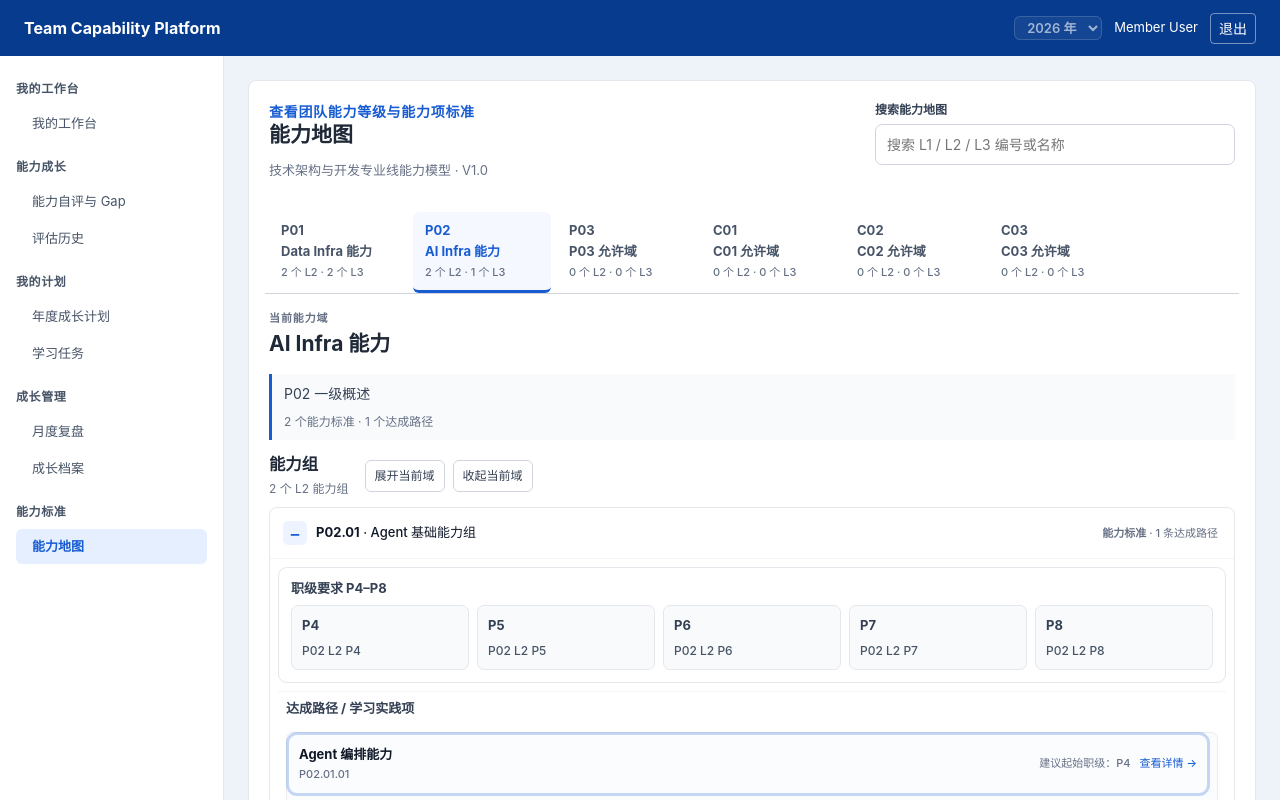
Test case: catalog routes › expands an L2 level description inline and handles an initial L3 hash
The width and height of the screenshot is (1280, 800).
Click the button with test id "l2-level-summary-P02.01-P4". click: (380, 638)
box: [291, 605, 469, 670]
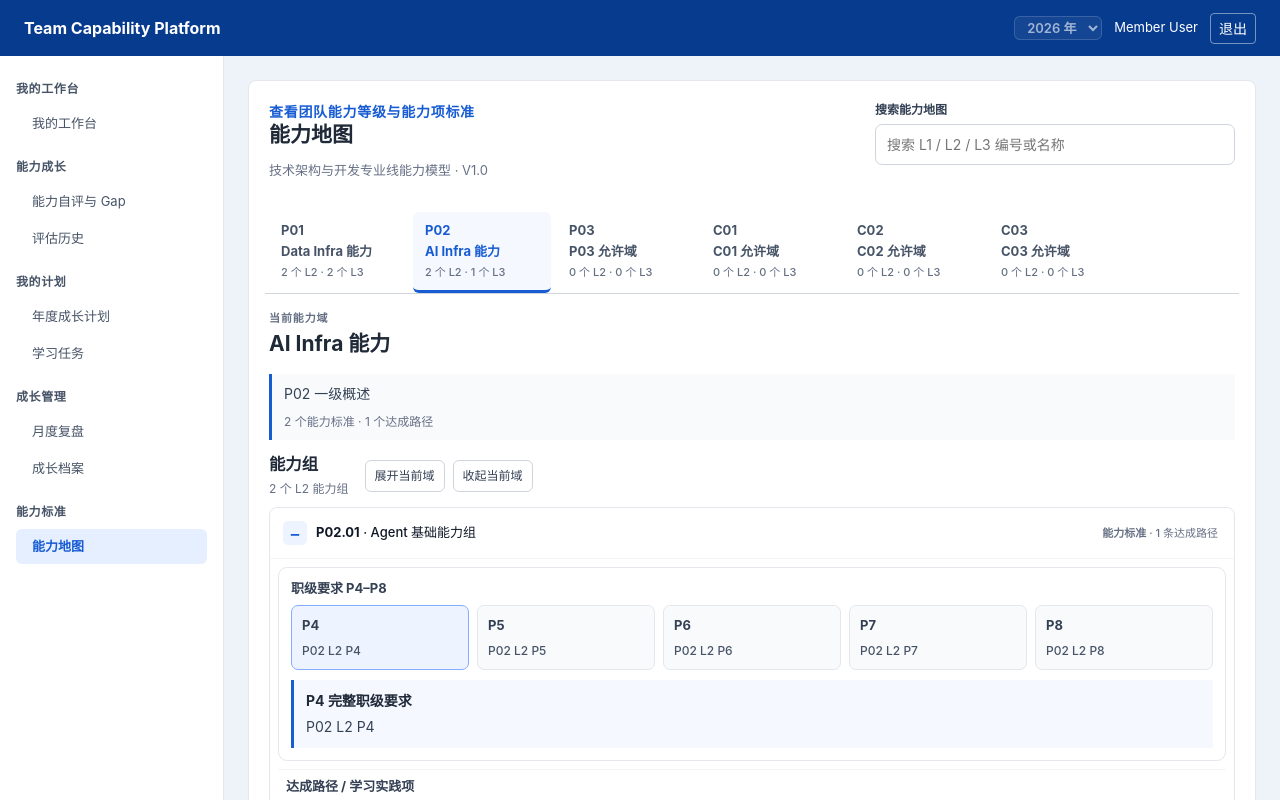
Expected: the element with test id "l2-level-inline-description-P02.01-P4" shows "P02 L2 P4", [306, 718, 375, 735]
